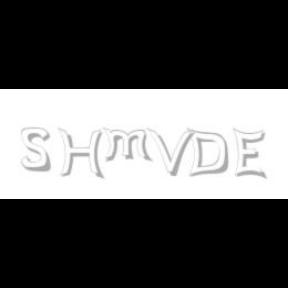D: (186, 128, 228, 178)
E: (233, 128, 266, 180)
H: (58, 128, 104, 180)
S: (21, 128, 52, 172)
V: (147, 128, 195, 176)
m: (101, 128, 153, 162)
